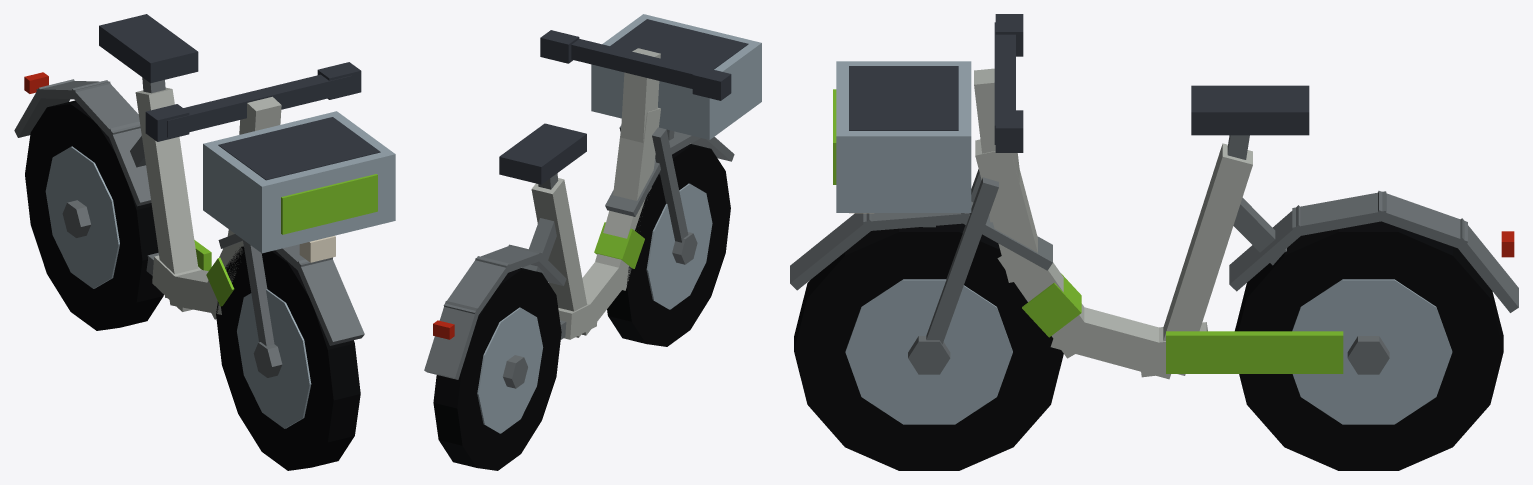
File: velib.glb
The picture shows the model from 3 angles, left to right: view 1: azimuth 30°, elevation 25°; view 2: azimuth 150°, elevation 25°; view 3: azimuth 270°, elevation 25°; orthographic projection. The views are drawn at different scales.
Parts seen in each view (by area): view 1: velib; view 2: velib; view 3: velib.
Part boxes in pixels (x1=…): velib: x1=14, y1=14, x2=395, y2=470; velib: x1=424, y1=14, x2=761, y2=470; velib: x1=790, y1=14, x2=1518, y2=470.
Bounding box in the file's own units: 0.64 × 1.02 × 1.73.
Materials: 1 (1 with a texture image).
